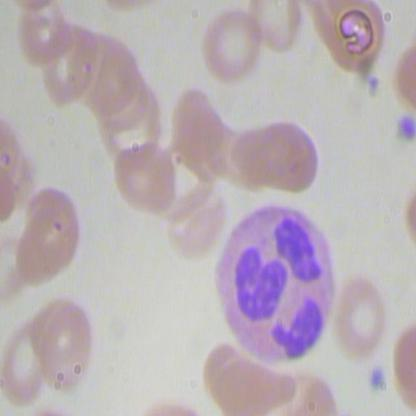Platelets: (367, 363, 389, 399), (395, 114, 415, 143)
RBC: (8, 185, 85, 292), (326, 271, 393, 361), (39, 293, 97, 392), (110, 136, 179, 219), (252, 117, 321, 200), (1, 310, 58, 409), (38, 22, 101, 111), (196, 8, 264, 87), (162, 177, 226, 258)
WBC: (211, 195, 340, 368)
